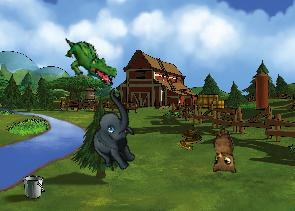crocodile: (56, 36, 123, 87)
elephant: (71, 88, 158, 177)
owl: (200, 126, 241, 179)
